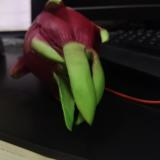pitaya: (22, 2, 109, 120)
